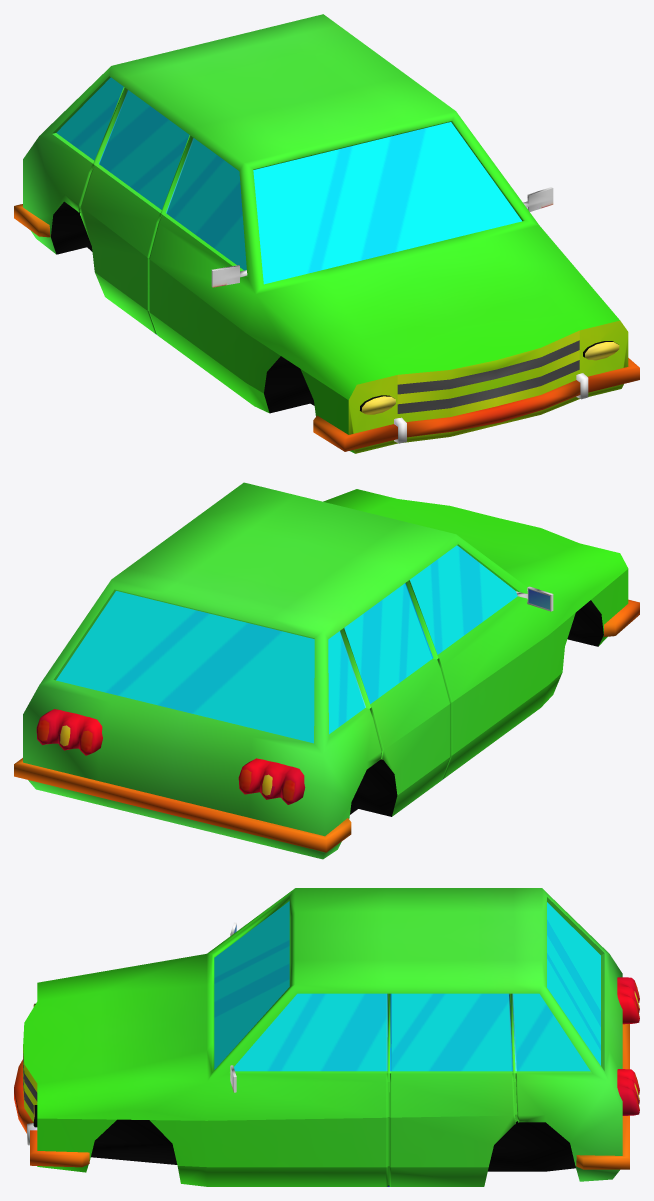
The model's file is Car_5.fbx.
The picture shows the model from 3 angles, top to bottom: view 1: azimuth 30°, elevation 25°; view 2: azimuth 150°, elevation 25°; view 3: azimuth 270°, elevation 25°; orthographic projection. The views are drawn at different scales.
Visible parts, largest first — view 1: Car_5; view 2: Car_5; view 3: Car_5.
Part boxes in pixels (x1,y1,x2,y2): Car_5: (14,14,639,453); Car_5: (14,482,639,859); Car_5: (14,888,639,1186).
Size of the model in its own units: 249 by 139 by 425.
Materials: 2 (2 with a texture image).
